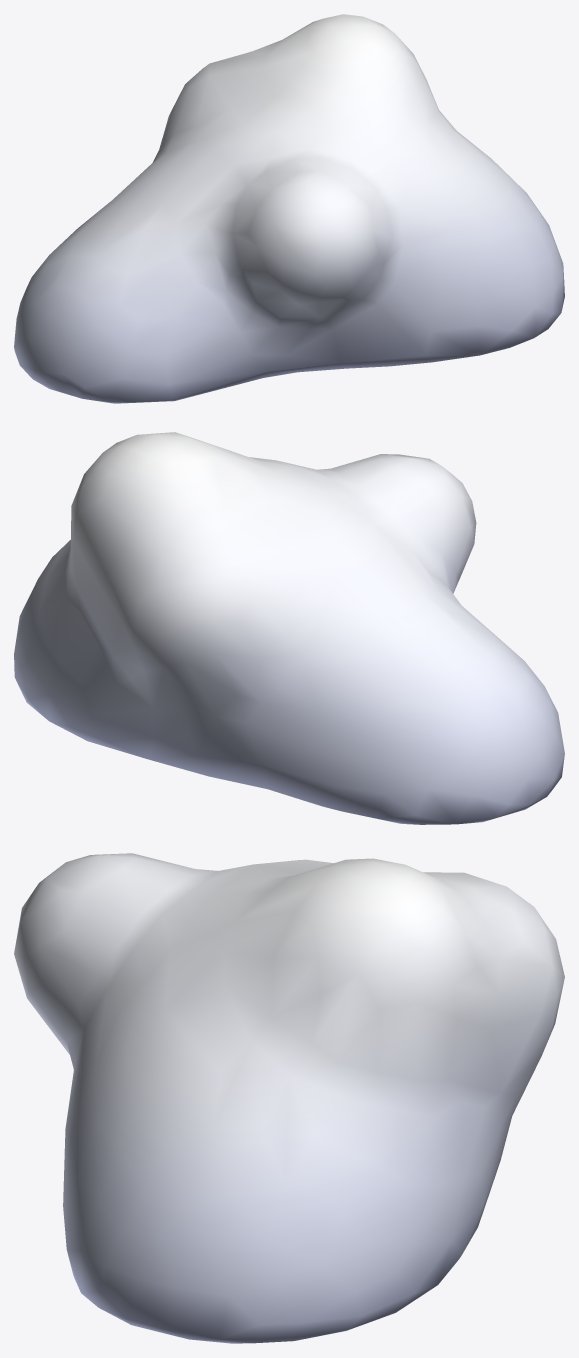
The model's file is NubePequena1.fbx.
3 renders of one model, top to bottom at view 1: azimuth 30°, elevation 25°; view 2: azimuth 150°, elevation 25°; view 3: azimuth 270°, elevation 25°, orthographic. The views are drawn at different scales.
Parts seen in each view (by area): view 1: NubePequena1; view 2: NubePequena1; view 3: NubePequena1.
Part boxes in pixels (x1=…): NubePequena1: x1=14, y1=14, x2=564, y2=403; NubePequena1: x1=14, y1=432, x2=564, y2=824; NubePequena1: x1=14, y1=853, x2=564, y2=1343.
Bounding box in the file's own units: 70 × 37.69 × 48.23.
Materials: 1 (1 with a texture image).
